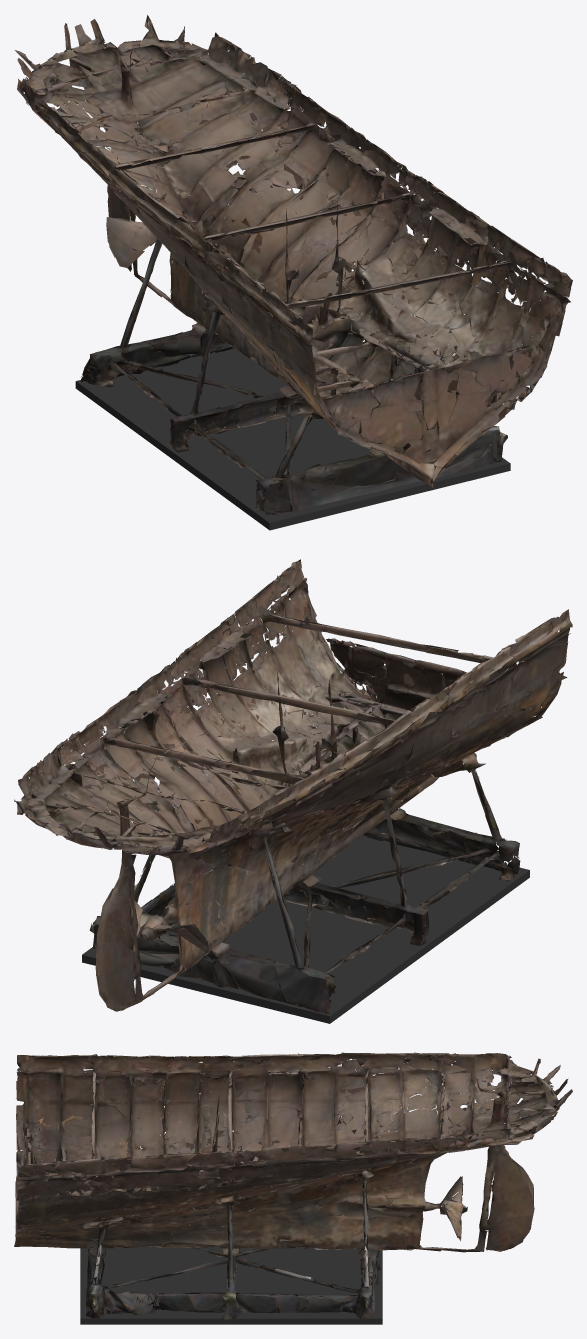
The model's file is ss_rifle_stern.glb.
3 views of the same model, one above another, from view 1: azimuth 30°, elevation 25°; view 2: azimuth 150°, elevation 25°; view 3: azimuth 270°, elevation 25° (orthographic). The views are drawn at different scales.
Visible parts, largest first — view 1: default_Material #25_0; view 2: default_Material #25_0; view 3: default_Material #25_0.
Part boxes in pixels (x1=…): default_Material #25_0: x1=15, y1=15, x2=572, y2=530; default_Material #25_0: x1=14, y1=559, x2=572, y2=1023; default_Material #25_0: x1=14, y1=1052, x2=572, y2=1324.
Size of the model in its own units: 3.2 by 3.2 by 7.49.
2 materials, 1 textured.
